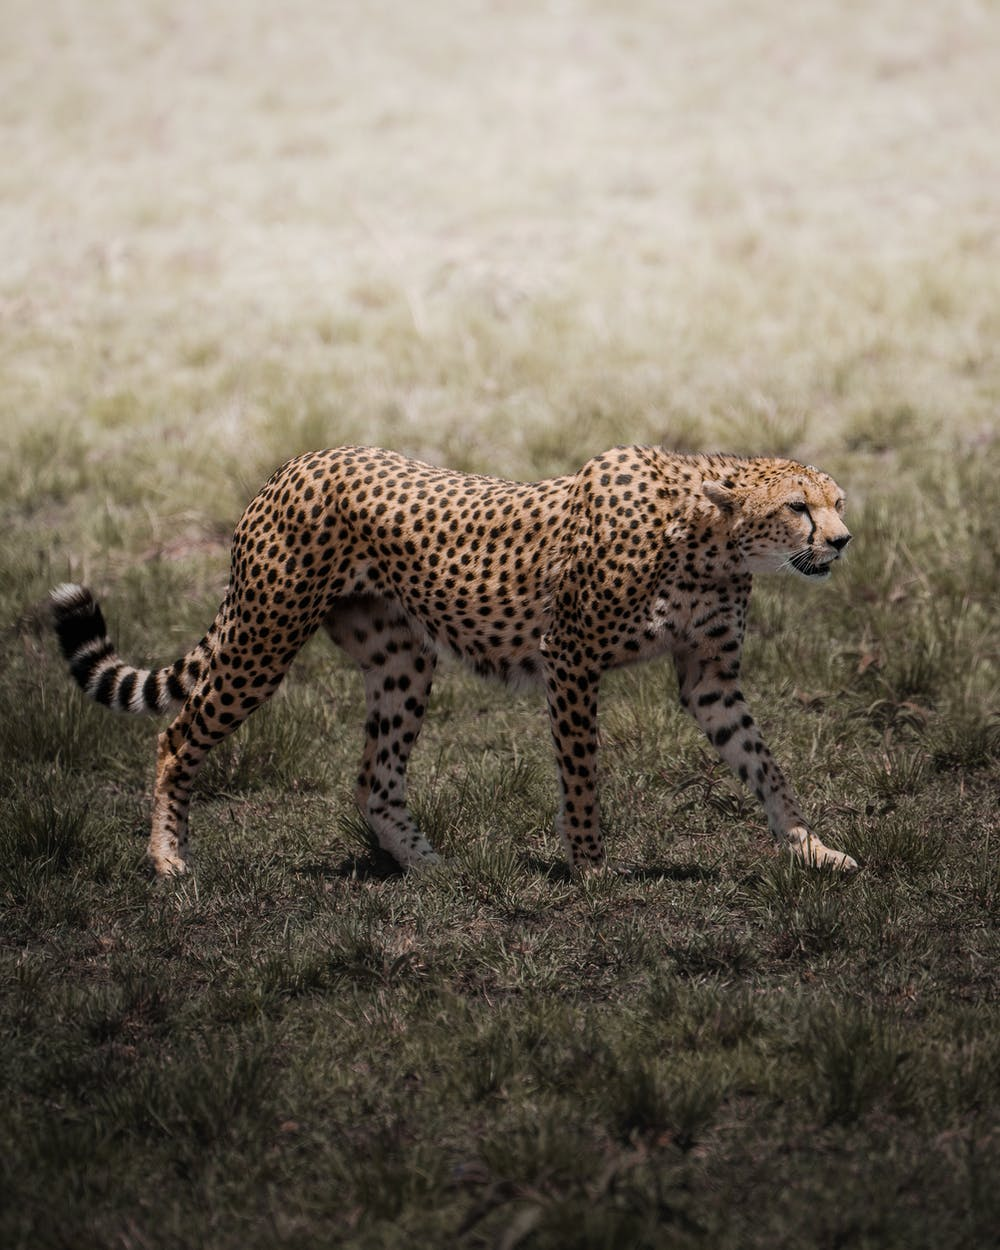cheetah: (690, 445, 858, 588)
